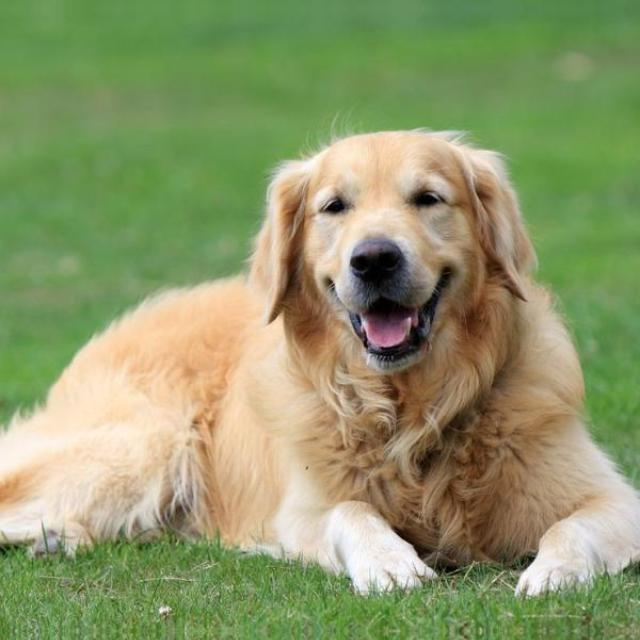dog: (16, 103, 640, 617)
